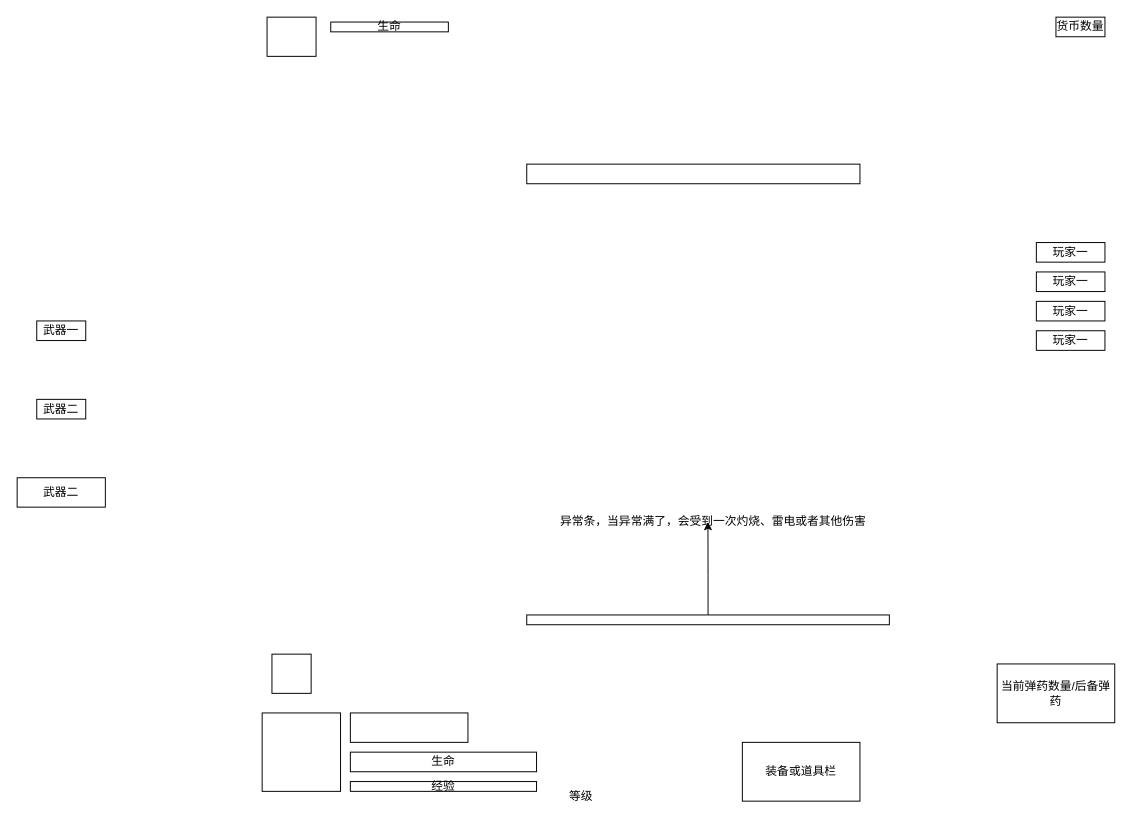
Some shapes in this 1132 by 828 pixel diagram are drawn without their labels. Each missing label, with the centre of its shape:
boss血条: (693,173)
升级界面: (291,673)
名字: (408,727)
头像: (301,751)
怪物: (291,36)
